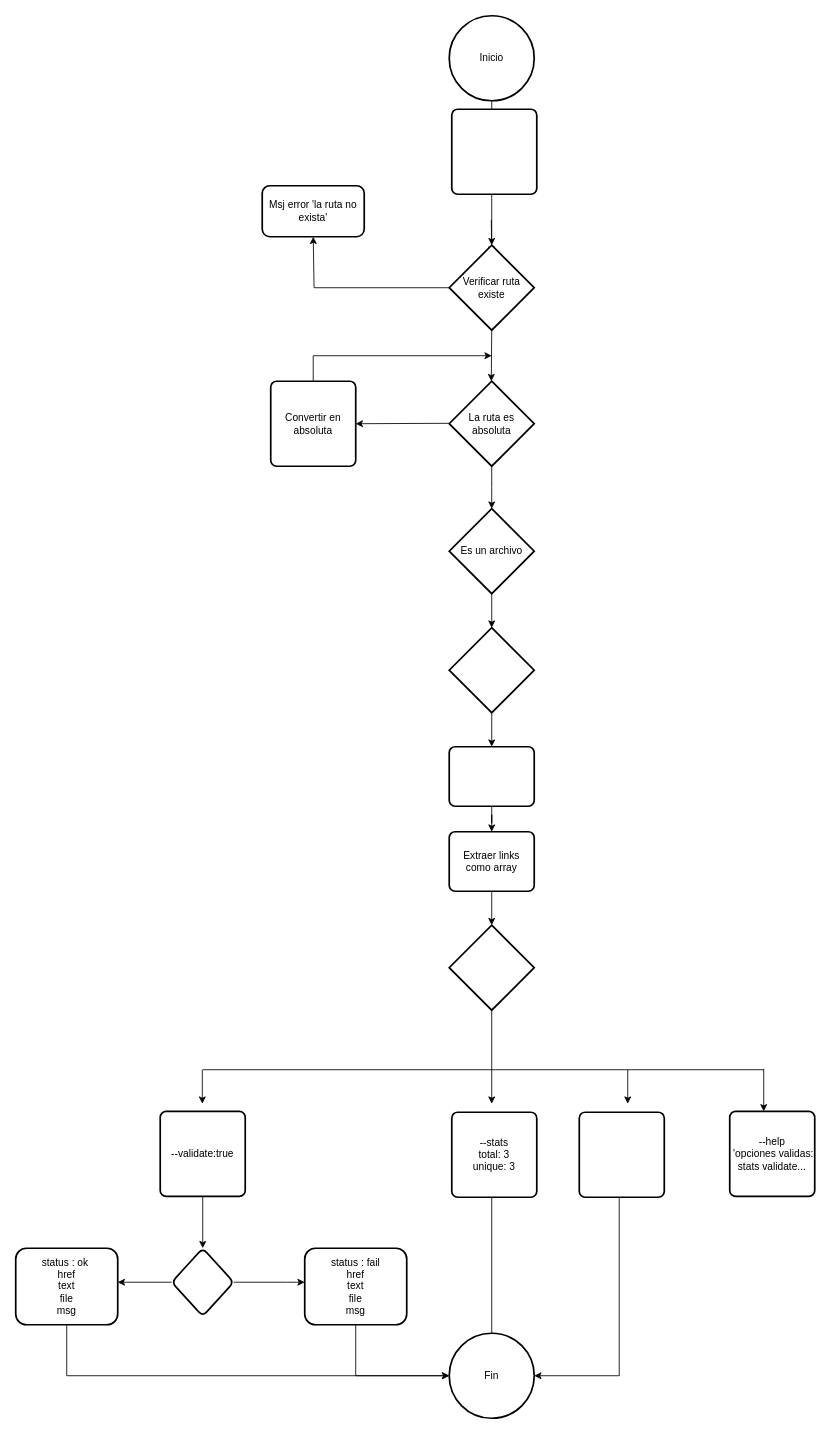
This 830x1433 diagram has some shape labels left out. Each missing label, with the centre of its shape:
"--stats y --validate total: 3 unique:2 broken:1" belongs at pixel 621 1154.
"Es un archivo md" belongs at pixel 491 669.
"Leer contenido" belongs at pixel 491 776.
"Opciones" belongs at pixel 491 967.
"Recibir ruta" belongs at pixel 493 151.
"status : request HTTP" belongs at pixel 202 1282.
